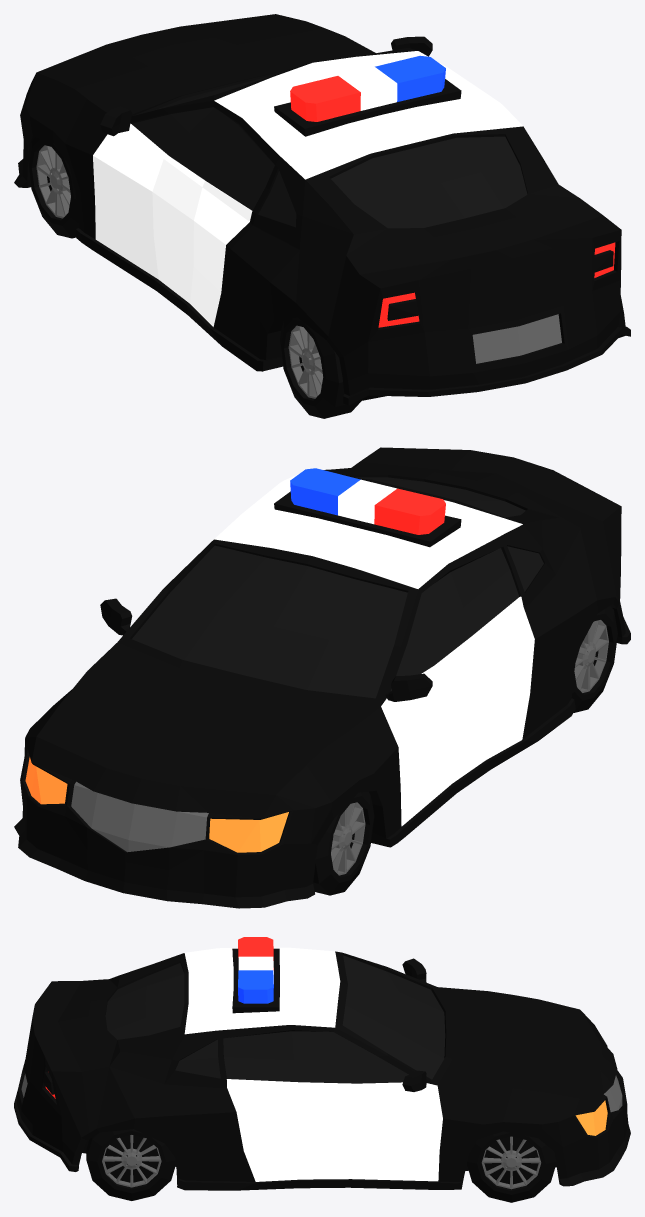
Rendered from Cop.glb.
3 renders of one model, top to bottom at view 1: azimuth 30°, elevation 25°; view 2: azimuth 150°, elevation 25°; view 3: azimuth 270°, elevation 25°, orthographic. The views are drawn at different scales.
Parts seen in each view (by area): view 1: Cop, Cop_BackWheels, Cop_FrontLeftWheel; view 2: Cop, Cop_FrontLeftWheel, Cop_BackWheels; view 3: Cop, Cop_BackWheels, Cop_FrontRightWheel.
Boxes of the visible parts, box(x1,y1,x2,y2) form: Cop: box(14, 14, 630, 405); Cop_BackWheels: box(280, 317, 361, 418); Cop_FrontLeftWheel: box(27, 137, 78, 238); Cop: box(14, 447, 630, 908); Cop_FrontLeftWheel: box(313, 791, 374, 895); Cop_BackWheels: box(571, 606, 617, 712); Cop: box(14, 937, 630, 1190); Cop_BackWheels: box(86, 1129, 175, 1200); Cop_FrontRightWheel: box(466, 1131, 556, 1202).
Bounding box in the file's own units: 178 × 124 × 373.
